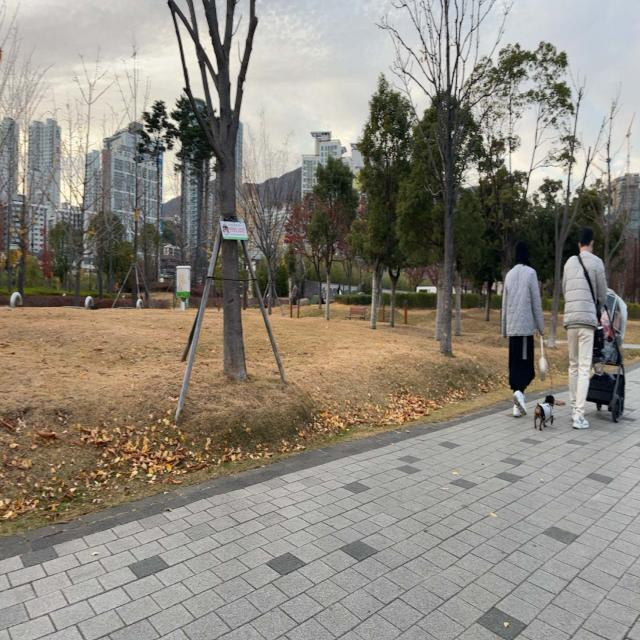Leashed_Dog: (528, 326, 555, 431)
